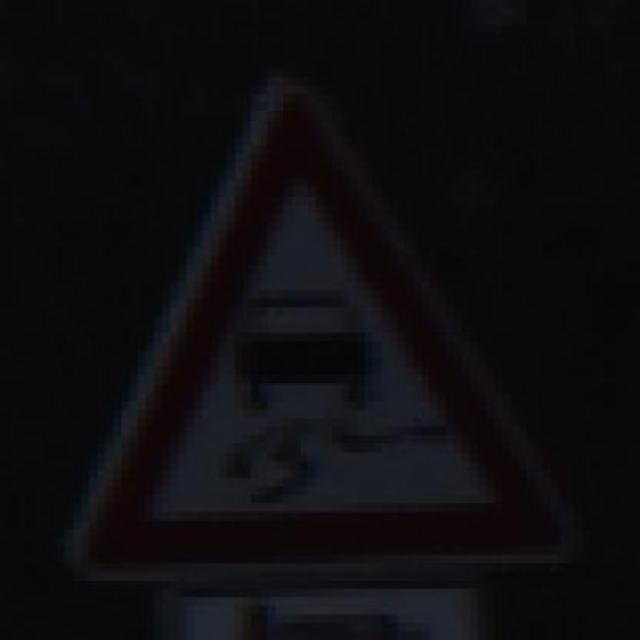Slippery Road Ahead: (58, 50, 585, 588)
